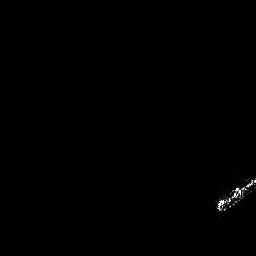ship: (211, 175, 256, 215)
